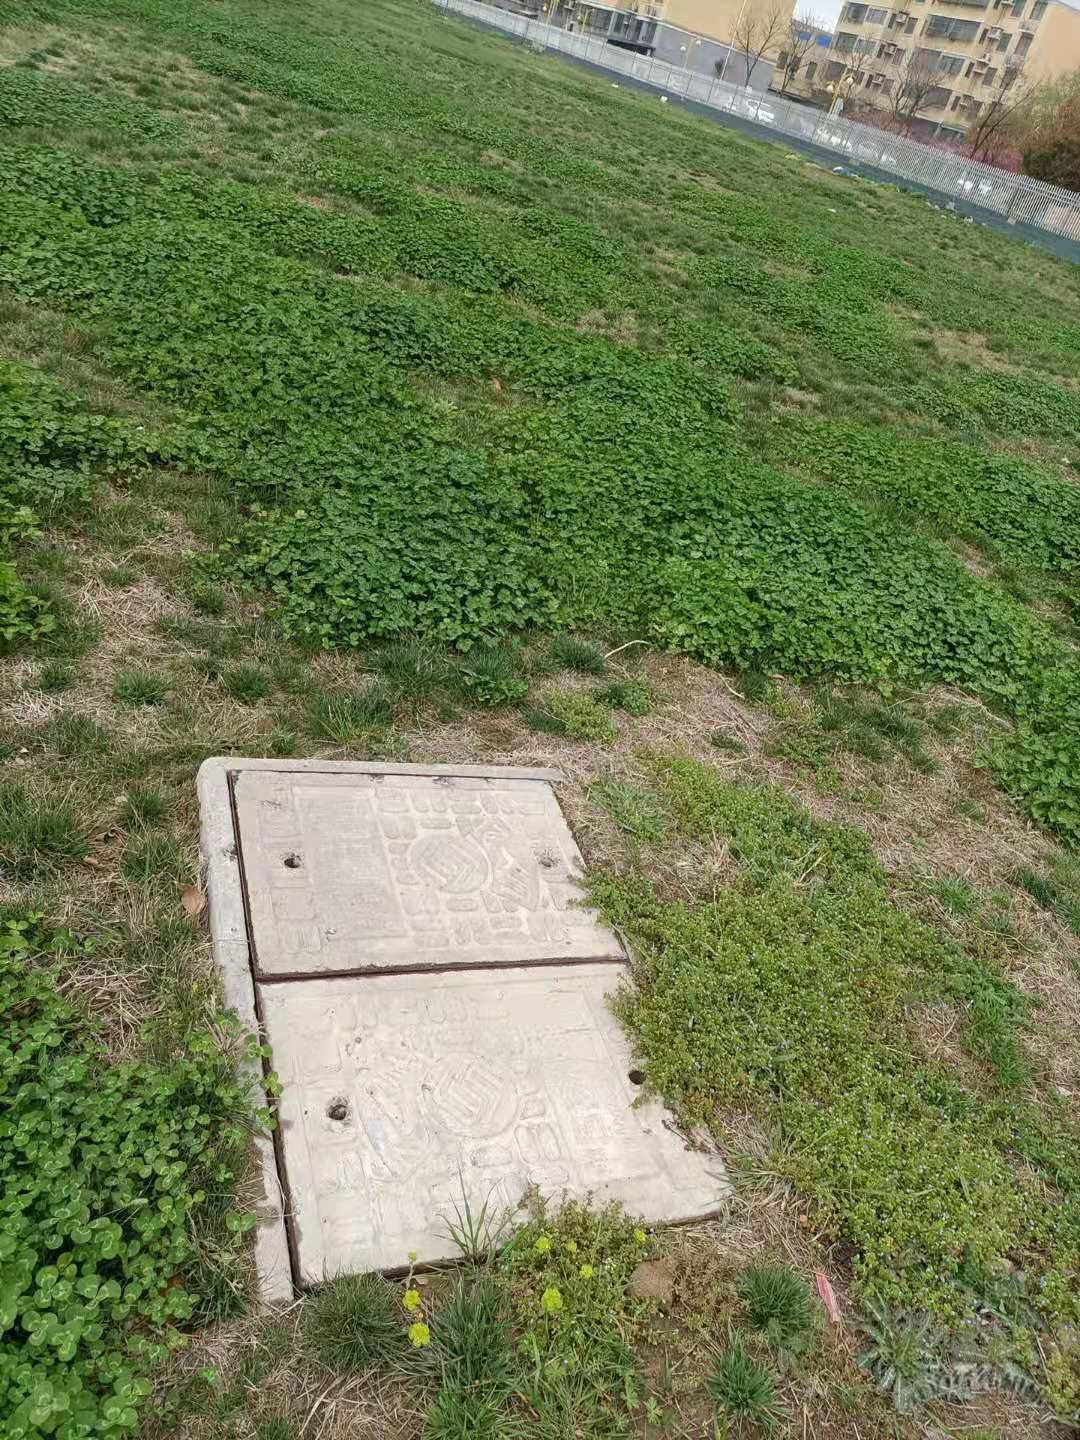good: (193, 756, 748, 1308)
